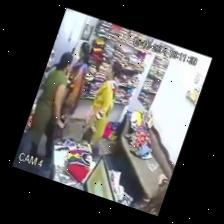person: (30, 52, 73, 154), (83, 62, 122, 145), (60, 43, 90, 123)
